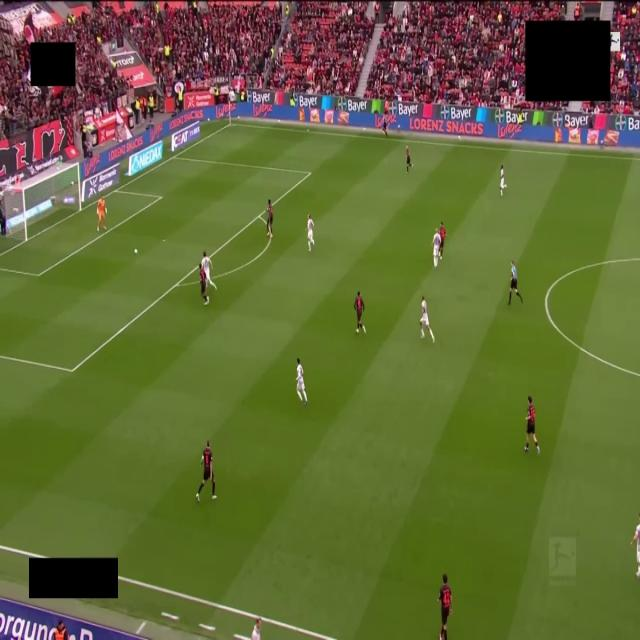ball: (134, 249, 138, 254)
player: (196, 440, 216, 501), (438, 574, 451, 639), (525, 396, 539, 454), (420, 296, 434, 342), (202, 252, 216, 289), (354, 291, 366, 333), (296, 359, 307, 404), (631, 525, 639, 578), (199, 264, 208, 305), (432, 229, 441, 268), (97, 198, 106, 231), (439, 222, 446, 259), (307, 215, 314, 251), (267, 200, 273, 239), (500, 166, 506, 197), (406, 145, 412, 173)
referee: (508, 261, 523, 304)
